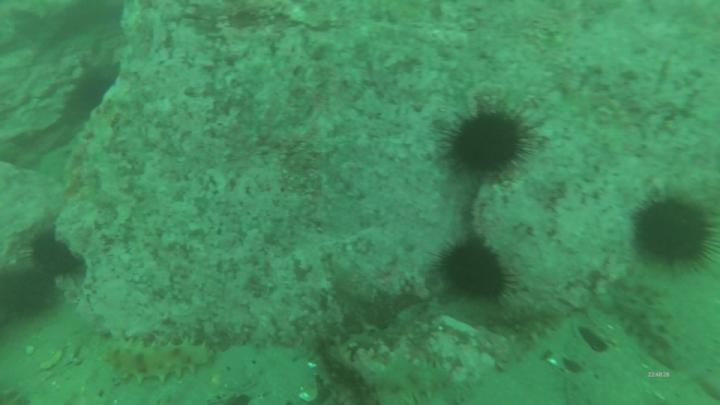echinus: (437, 98, 538, 182), (624, 191, 720, 273), (431, 232, 521, 309), (27, 225, 82, 280), (74, 73, 118, 118)
holothurian: (608, 274, 687, 377), (95, 335, 220, 391), (371, 359, 476, 405), (459, 305, 567, 343)
